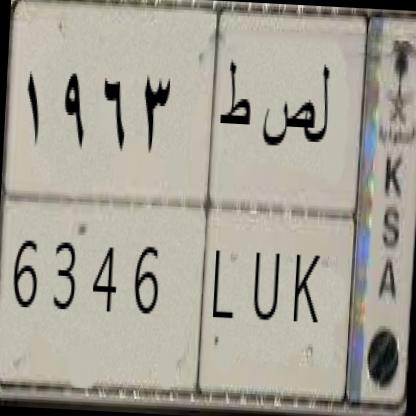english: (0, 175, 365, 416)
